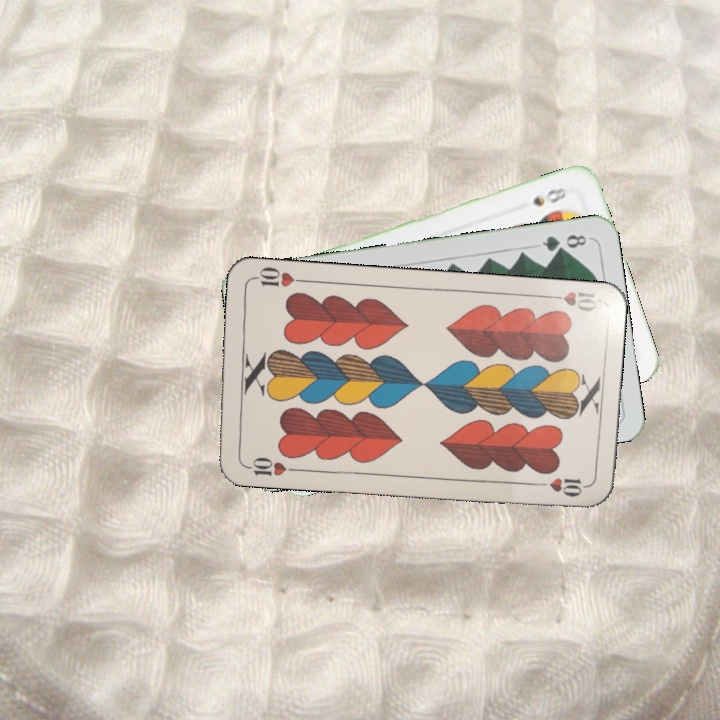G8: (538, 230, 593, 255)
H10: (542, 287, 599, 315), (239, 452, 298, 479)
S8: (529, 183, 569, 209)
